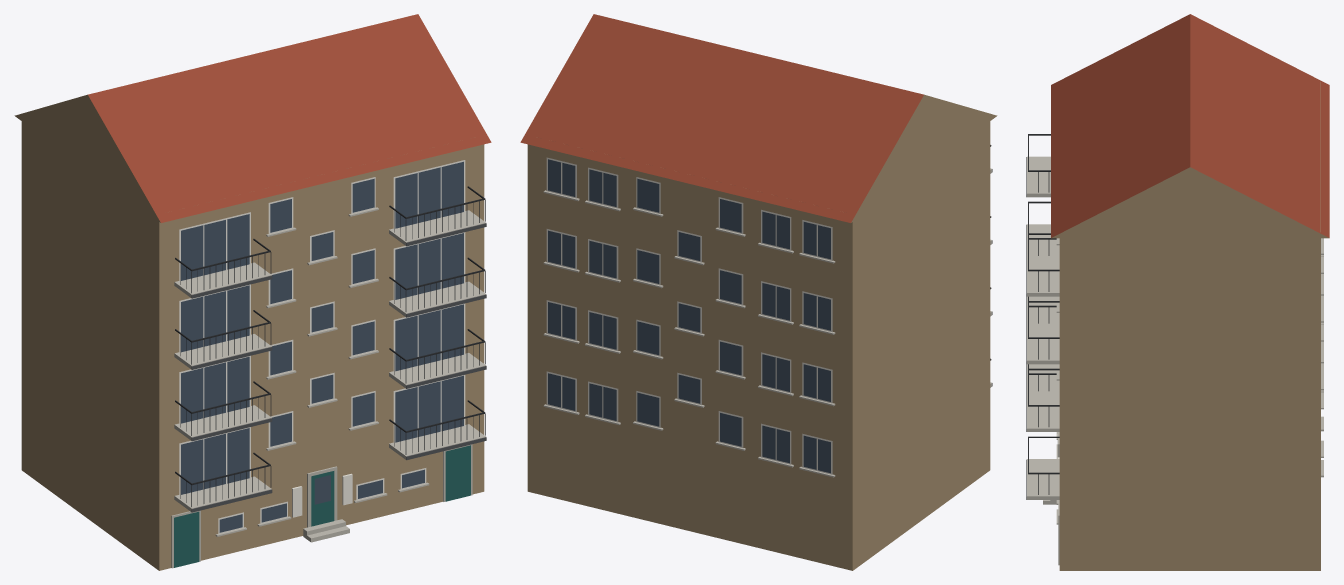
File: nw-portiek-wide-core-slotermeerlaan__brick-buff__5__gable__long__solid.glb
3 renders of one model, left to right at view 1: azimuth 30°, elevation 25°; view 2: azimuth 150°, elevation 25°; view 3: azimuth 270°, elevation 25°, orthographic. The views are drawn at different scales.
Visible parts, largest first — view 1: nw-portiek-wide-core-slotermeerlaan__brick-buff__5__gable__l; view 2: nw-portiek-wide-core-slotermeerlaan__brick-buff__5__gable__l; view 3: nw-portiek-wide-core-slotermeerlaan__brick-buff__5__gable__l.
Boxes of the visible parts, x1=… form: nw-portiek-wide-core-slotermeerlaan__brick-buff__5__gable__l: x1=14, y1=14, x2=491, y2=570; nw-portiek-wide-core-slotermeerlaan__brick-buff__5__gable__l: x1=520, y1=14, x2=997, y2=570; nw-portiek-wide-core-slotermeerlaan__brick-buff__5__gable__l: x1=1026, y1=14, x2=1329, y2=570.
Bounding box in the file's own units: 14.43 × 17.79 × 12.07.
